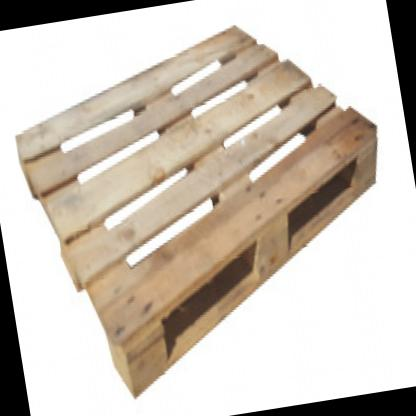BoxFace: (13, 22, 379, 400)
